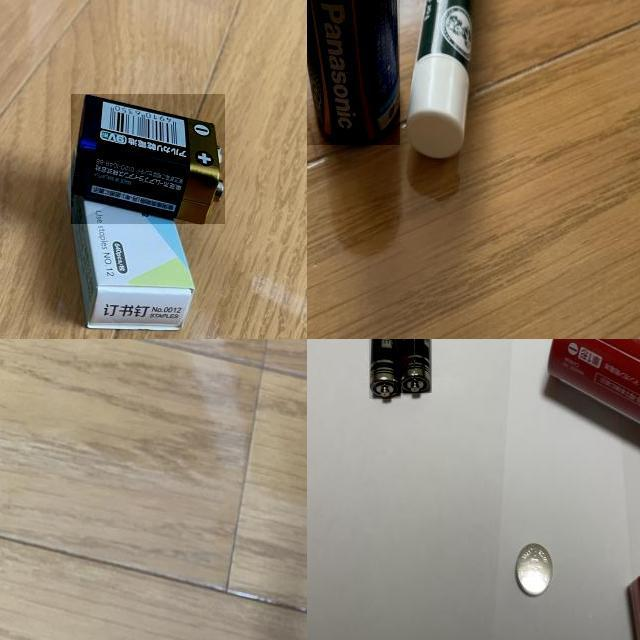9V: (71, 94, 225, 225)
